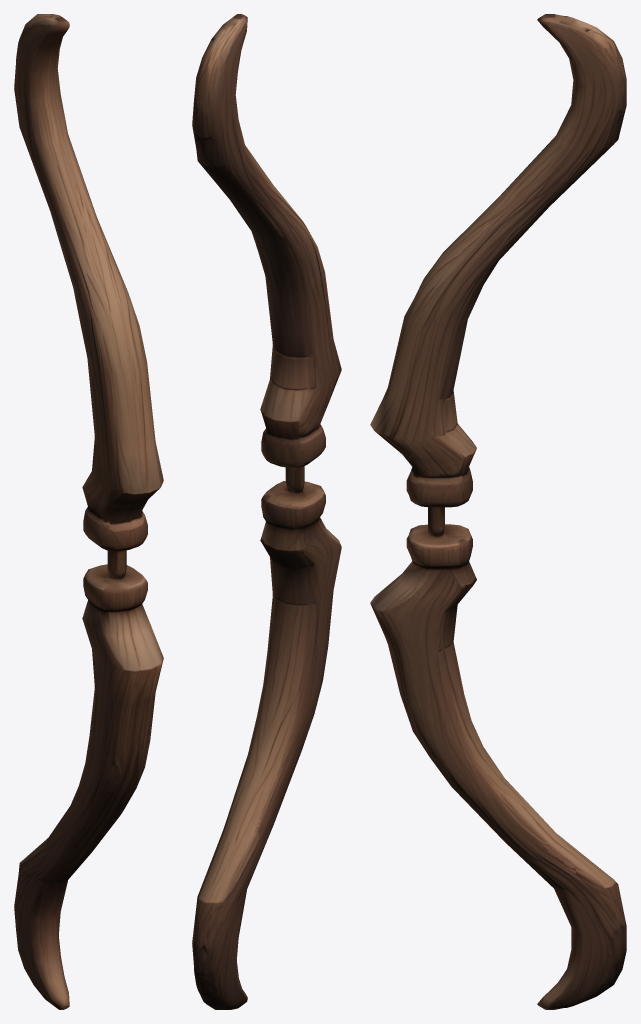
Rendered from WoodenBow.fbx.
3 views of the same model, side by side, from view 1: azimuth 30°, elevation 25°; view 2: azimuth 150°, elevation 25°; view 3: azimuth 270°, elevation 25° (orthographic).
Parts seen in each view (by area): view 1: mesh_rep_0_ori_repair_quad; view 2: mesh_rep_0_ori_repair_quad; view 3: mesh_rep_0_ori_repair_quad.
Boxes of the visible parts, x1,y1,x2,y2 form: mesh_rep_0_ori_repair_quad: (14, 14, 163, 1009); mesh_rep_0_ori_repair_quad: (192, 14, 341, 1009); mesh_rep_0_ori_repair_quad: (370, 14, 626, 1009).
Size of the model in its own units: 5.81 by 114 by 26.82.
1 material, 1 textured.
